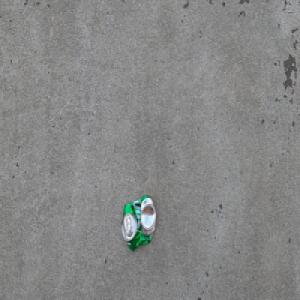SodaCan: (121, 194, 156, 253)
